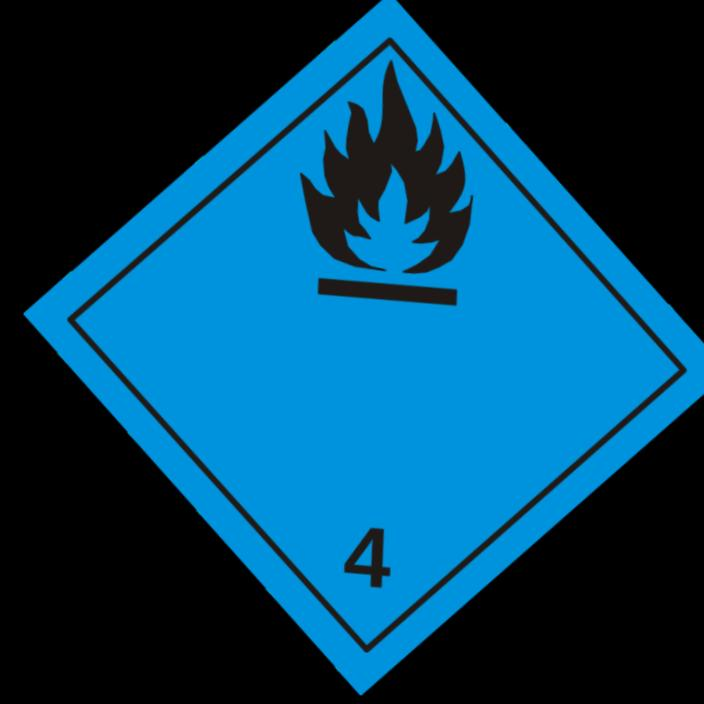clock: (24, 0, 704, 694)
